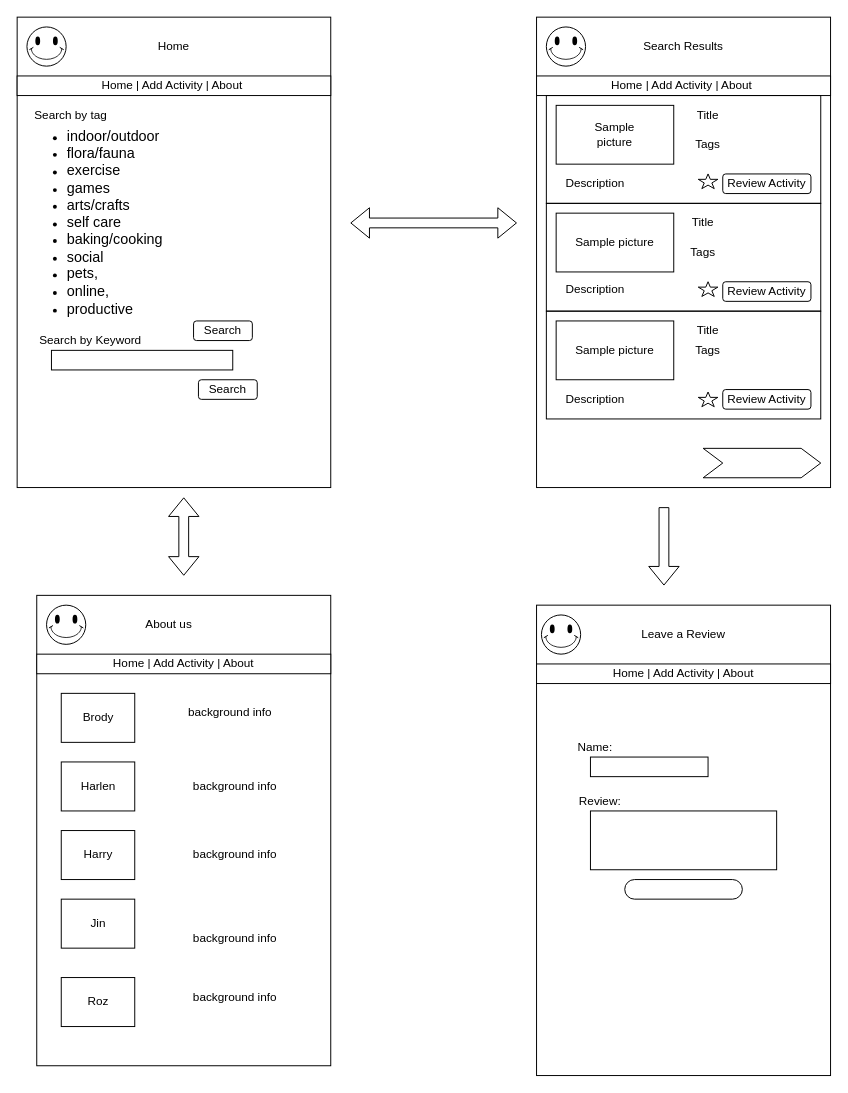
Some shapes in this 848 by 1093 pixel diagram are drawn without their labels. Here are the shapes that lost their labels. From the top down, the centre of each, then its label:
At (761,462): "Next Page".
At (648,766): "Enter your name...".
At (683,840): "Enter text here... .".
At (683,889): "Submit".
